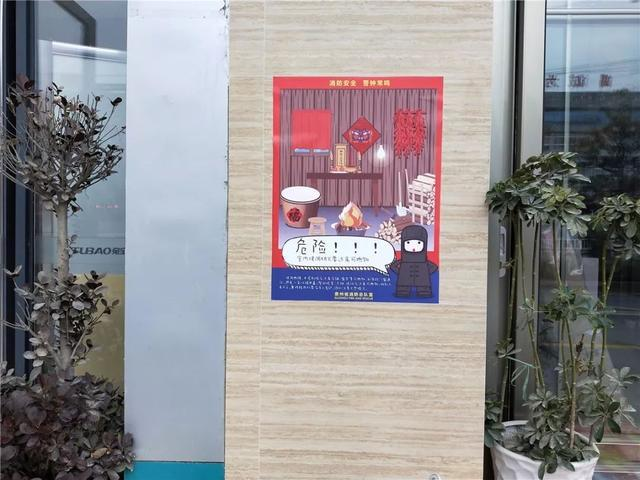bill: (272, 76, 440, 304)
